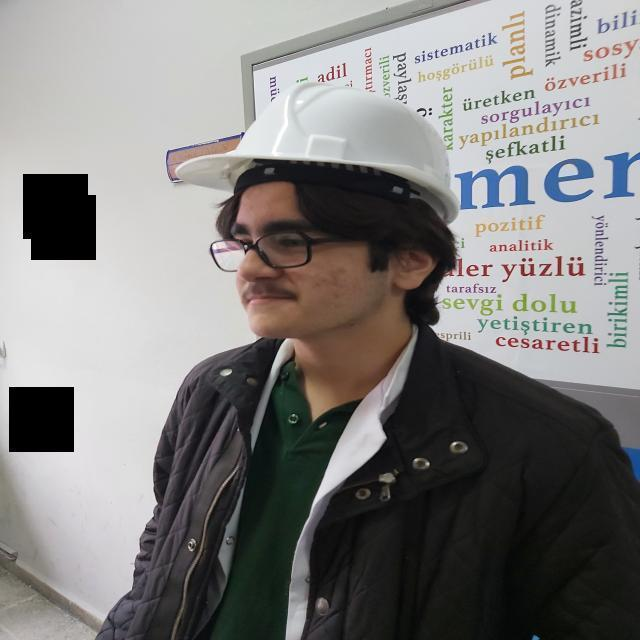helmet: (174, 78, 460, 225)
